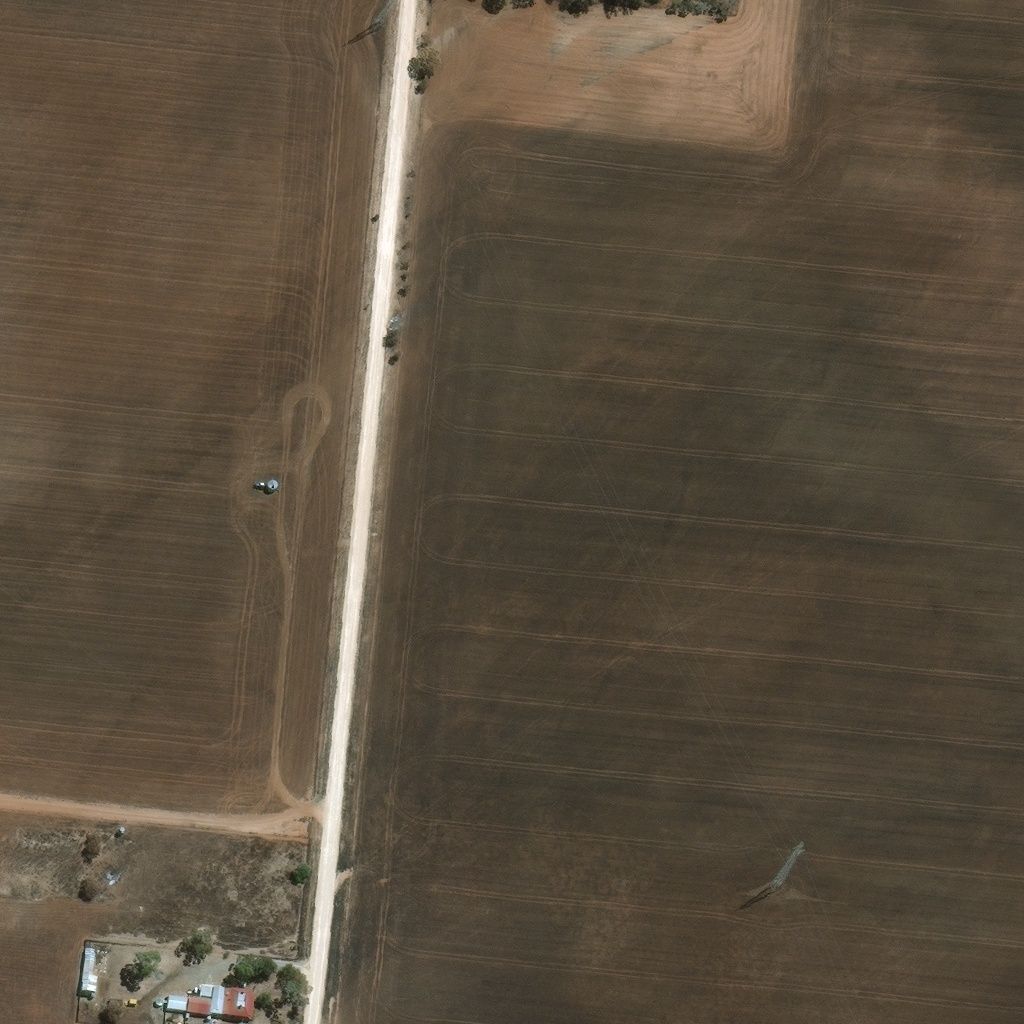0 no-damage: (187, 979, 255, 1020), (79, 947, 98, 993), (166, 993, 187, 1010), (106, 995, 123, 1010), (190, 988, 196, 994)
4 un-classified: (163, 1008, 185, 1023), (186, 1011, 191, 1017), (207, 1013, 212, 1019)
